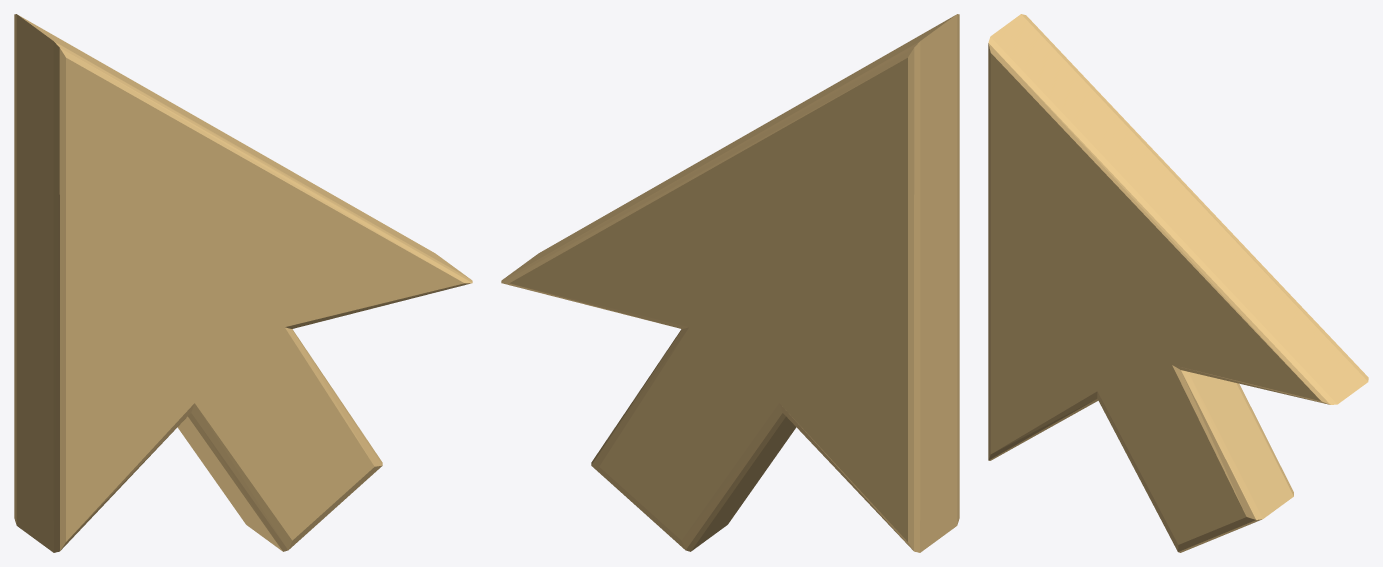
The model's file is web-pointer.glb.
The picture shows the model from 3 angles, left to right: view 1: azimuth 30°, elevation 25°; view 2: azimuth 150°, elevation 25°; view 3: azimuth 330°, elevation 25°; orthographic projection. The views are drawn at different scales.
Parts seen in each view (by area): view 1: Forma Monogram; view 2: Forma Monogram; view 3: Forma Monogram.
Part boxes in pixels (x1,y1,x2,y2): Forma Monogram: (14,14,472,552); Forma Monogram: (501,14,959,552); Forma Monogram: (988,14,1368,552).
Size of the model in its own units: 1.63 by 2.11 by 0.33.
